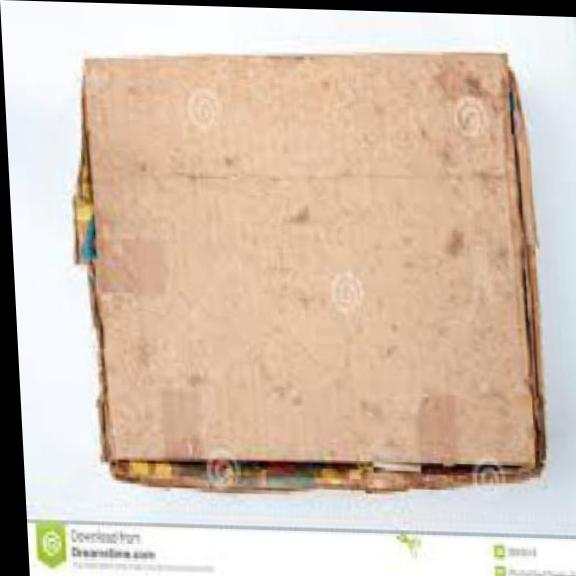Kertas: (82, 54, 539, 467)
